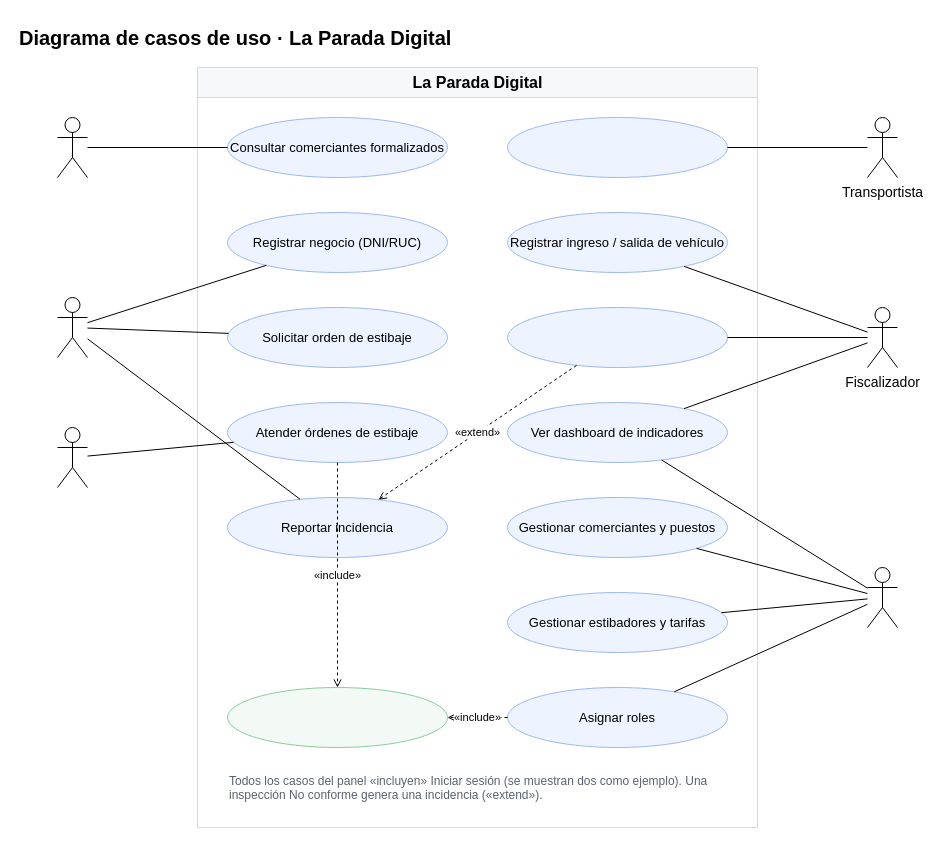
Image size: 942x845. Some labels were removed from this diagram. Each missing label, with the centre of its shape:
Administrador municipal: the point at 882,597
Comerciante: the point at 72,327
Estibador: the point at 72,457
Iniciar sesión: the point at 337,717
Registrar inspección de salubridad: the point at 617,337
Reservar franja de descarga: the point at 617,147
Visitante: the point at 72,147
